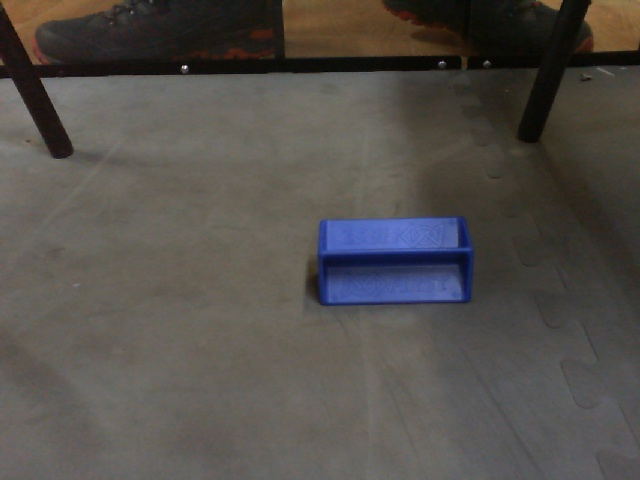BlueSample: (311, 213, 479, 315)
